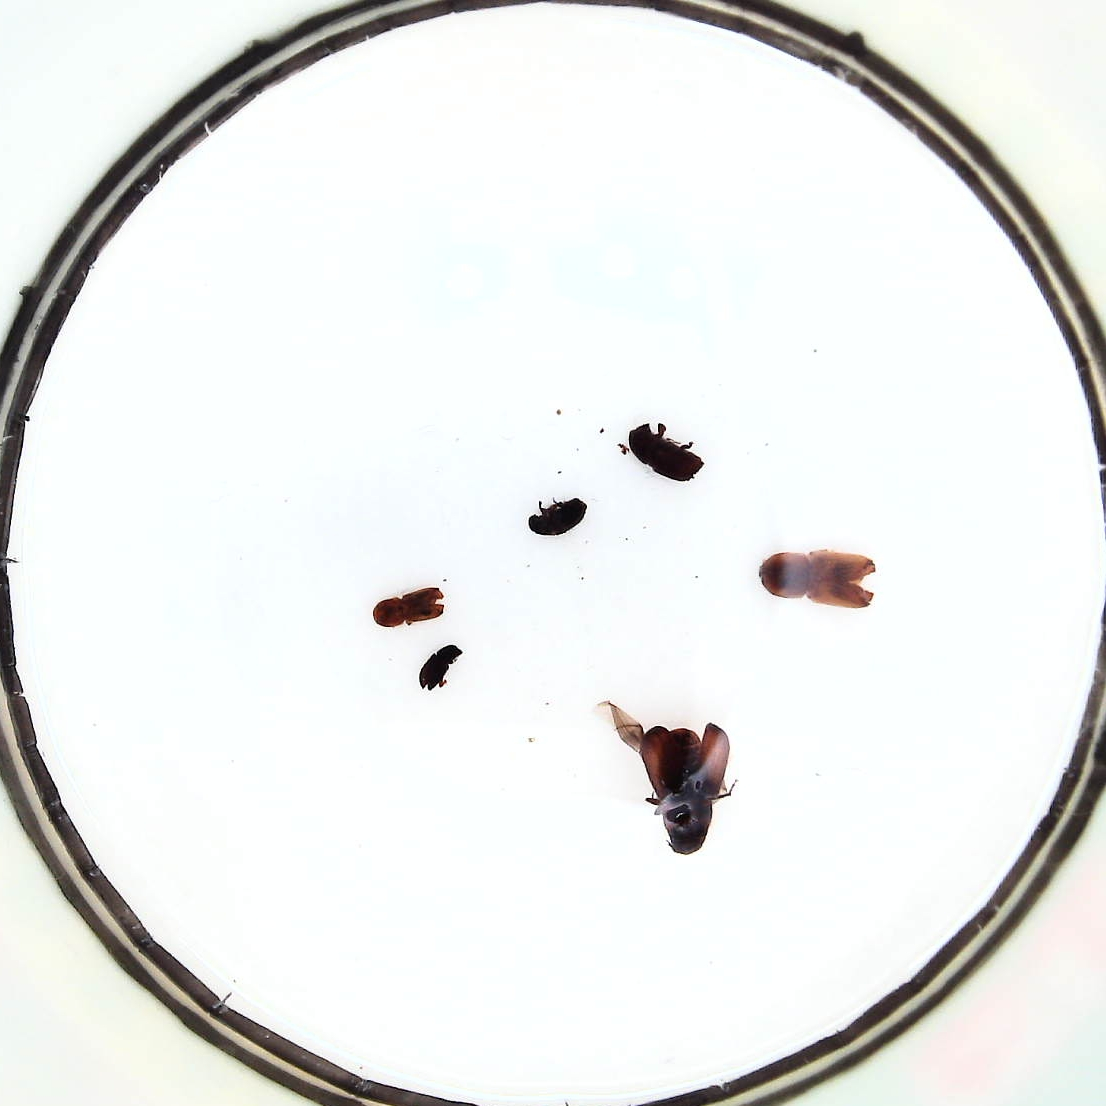Boerner: (761, 550, 875, 608)
Leconte: (641, 724, 728, 855)
acuminatus: (529, 499, 586, 535)
armandi: (374, 588, 443, 627)
coleoptera: (420, 645, 463, 690)
linnaeus: (628, 424, 704, 482)
